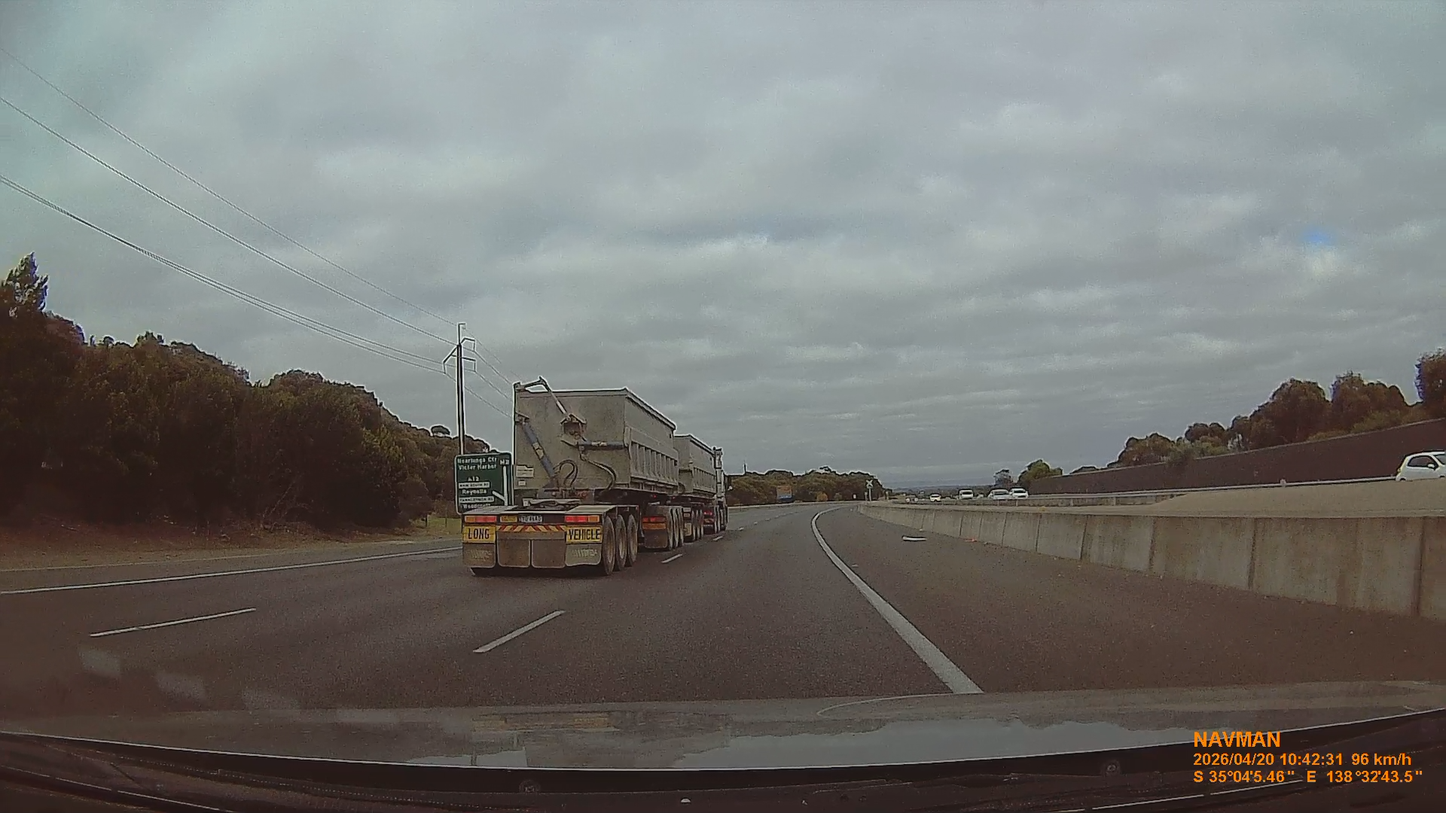fences: (1056, 427, 1443, 497)
road barriers: (840, 467, 1445, 618)
